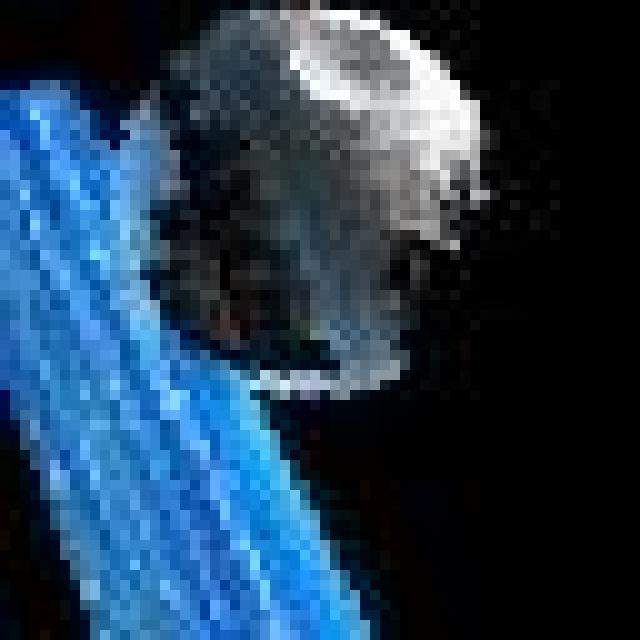Death Star: (108, 11, 503, 407)
